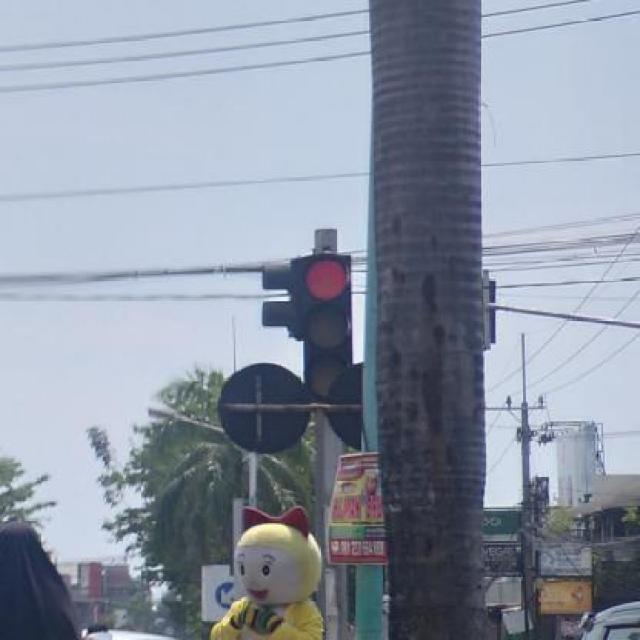traffic light: (296, 252, 356, 402)
